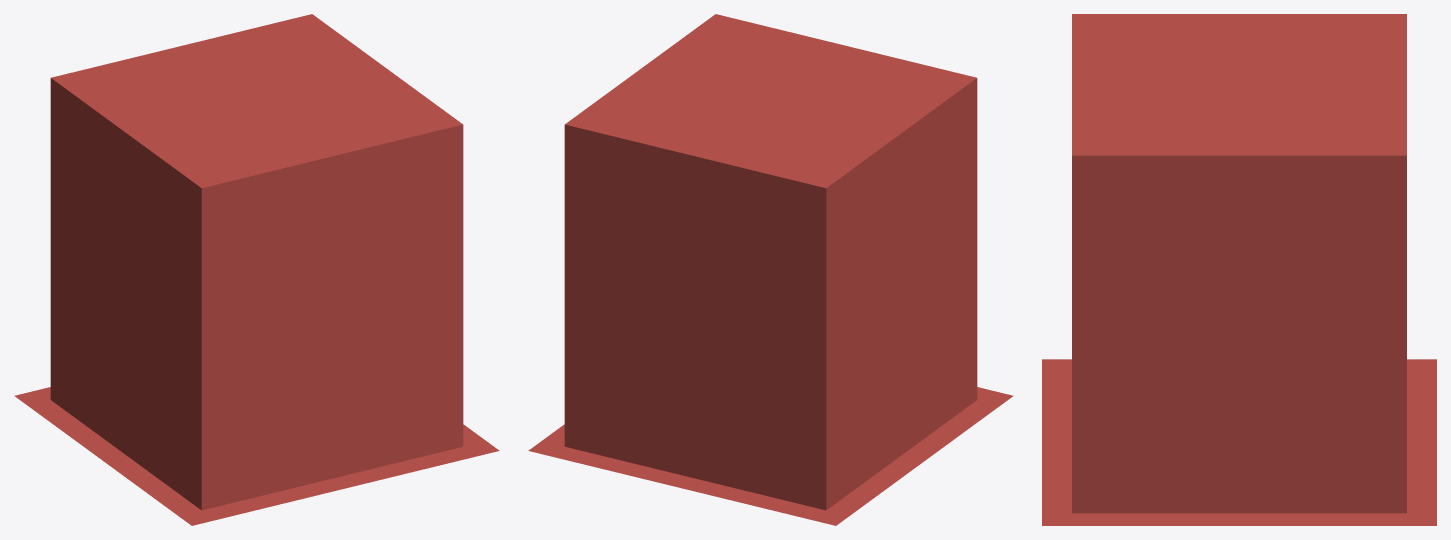
File: 2x2 Apartments.fbx
3 views of the same model, side by side, from view 1: azimuth 30°, elevation 25°; view 2: azimuth 150°, elevation 25°; view 3: azimuth 270°, elevation 25° (orthographic). The views are drawn at different scales.
Parts seen in each view (by area): view 1: 2x2 Apartments; view 2: 2x2 Apartments; view 3: 2x2 Apartments.
Part boxes in pixels (x1,y1,x2,y2): 2x2 Apartments: (14,14,499,525); 2x2 Apartments: (528,14,1013,525); 2x2 Apartments: (1042,14,1436,525).
Bounding box in the file's own units: 2 × 2 × 2.
